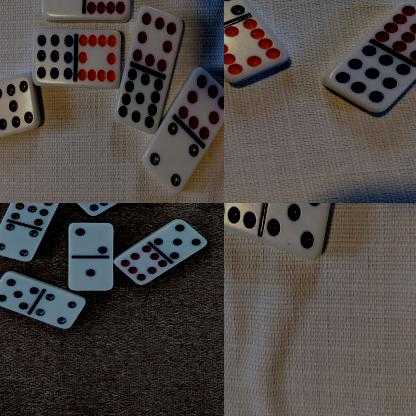pip-1: (68, 256, 114, 291), (41, 0, 86, 18)
pip-10: (224, 18, 288, 78), (77, 29, 122, 86)
pip-11: (116, 66, 164, 131)
pip-12: (376, 1, 416, 60), (85, 0, 131, 19)
pip-2: (70, 223, 114, 257)
pip-4: (150, 121, 199, 192), (38, 290, 86, 329), (0, 222, 39, 261)
pip-5: (267, 203, 333, 258), (153, 219, 208, 259), (0, 270, 40, 309)
pip-6: (224, 203, 266, 237)
pip-7: (0, 72, 35, 136), (11, 203, 61, 225)
pip-8: (179, 66, 224, 140), (133, 6, 183, 70), (116, 244, 169, 284)
pip-9: (332, 46, 412, 113), (32, 30, 77, 86), (71, 203, 125, 215)
